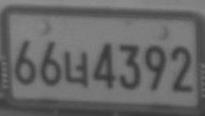2: (170, 46, 194, 93)
3: (118, 44, 141, 90)
4: (92, 43, 116, 89)
6: (39, 40, 62, 87), (13, 39, 36, 85)
9: (144, 45, 167, 90)
너: (64, 51, 88, 86)
